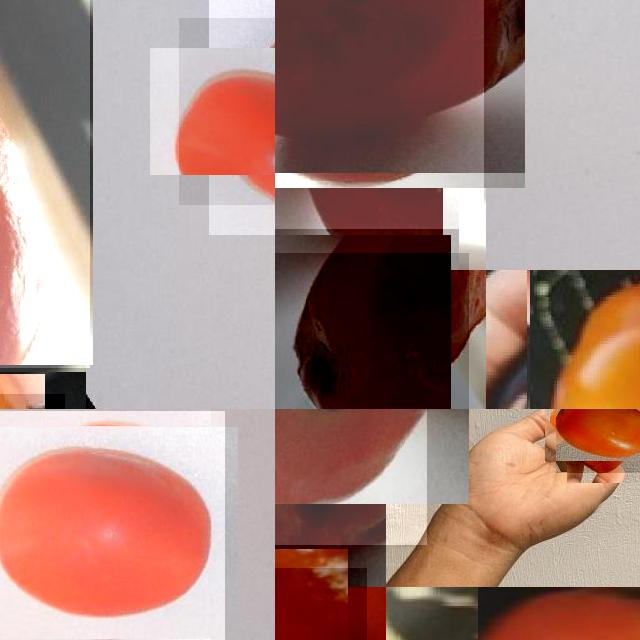Fresh Tomato: (0, 411, 225, 640), (179, 18, 275, 205), (530, 270, 640, 409), (555, 409, 640, 472)
Rotten Tomato: (275, 0, 484, 229), (0, 0, 89, 368), (275, 252, 468, 409), (275, 409, 427, 545)
